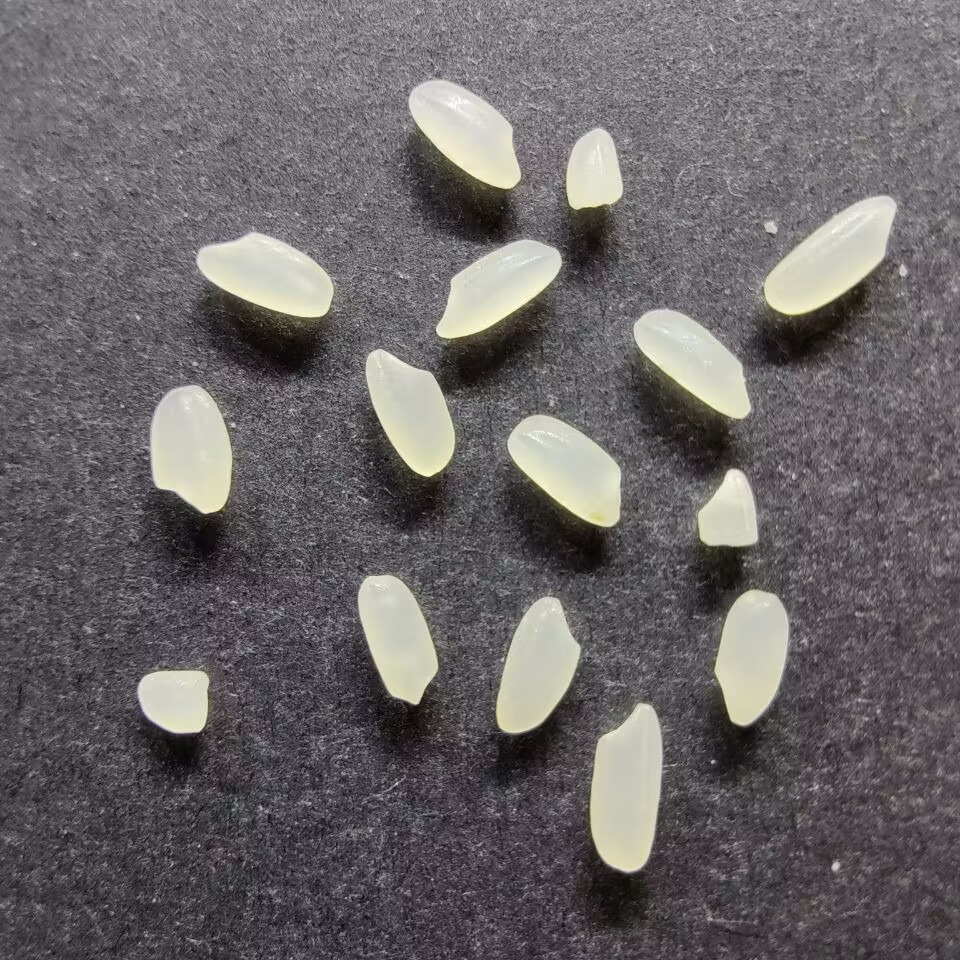broken: (695, 467, 759, 548), (564, 127, 624, 209), (136, 670, 209, 734)
rice: (763, 193, 897, 315), (506, 414, 623, 528), (632, 308, 752, 419), (435, 237, 562, 339), (588, 702, 663, 873), (408, 78, 521, 190), (494, 595, 581, 734), (195, 231, 333, 318), (364, 348, 456, 477), (356, 573, 440, 706), (149, 384, 231, 515), (713, 588, 789, 726)
